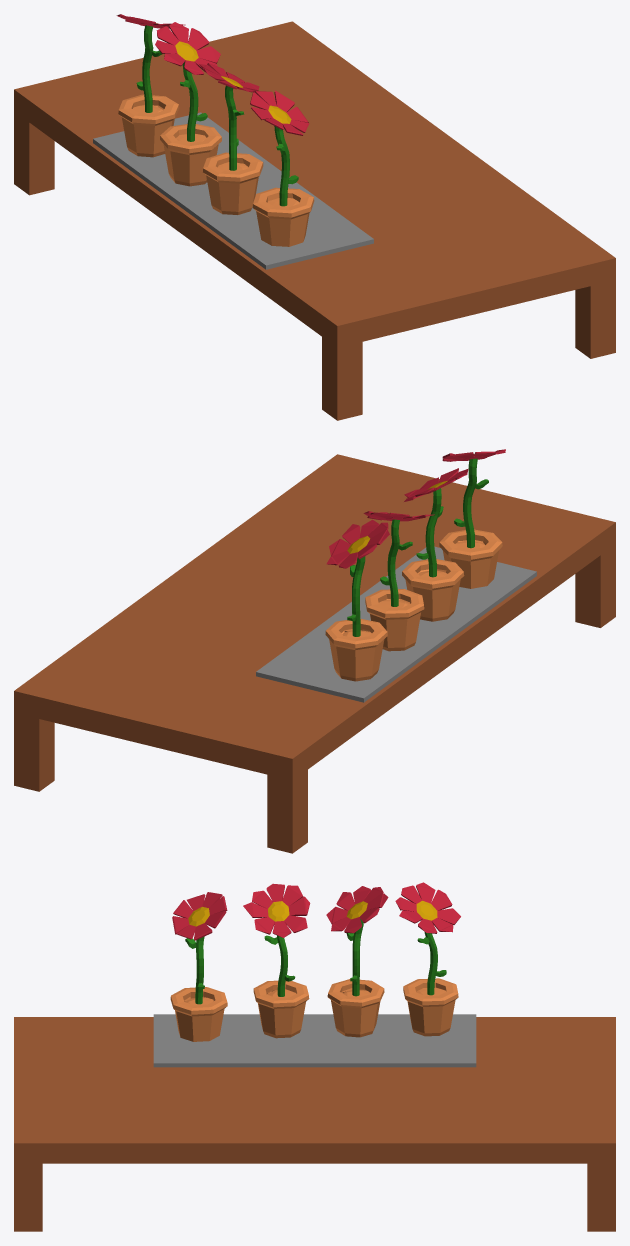
The model's file is biology-task-table-type2.fbx.
The picture shows the model from 3 angles, top to bottom: view 1: azimuth 30°, elevation 25°; view 2: azimuth 150°, elevation 25°; view 3: azimuth 270°, elevation 25°; orthographic projection. The views are drawn at different scales.
Parts seen in each view (by area): view 1: Plane, Plane.001, Circle.001, flower-red, Circle.002, Circle.003; view 2: Plane, Plane.001, Circle.003, Circle.002, flower-red, Circle.001; view 3: Plane, Plane.001, Circle.002, Circle.003, Circle.001, flower-red.
Boxes of the visible parts, x1=… form: Plane: x1=14, y1=21, x2=615, y2=420; Plane.001: x1=93, y1=112, x2=373, y2=269; Circle.001: x1=155, y1=22, x2=221, y2=186; flower-red: x1=250, y1=90, x2=314, y2=246; Circle.002: x1=198, y1=63, x2=263, y2=214; Circle.003: x1=116, y1=14, x2=185, y2=157; Plane: x1=14, y1=454, x2=615, y2=853; Plane.001: x1=256, y1=546, x2=536, y2=702; Circle.003: x1=325, y1=519, x2=389, y2=681; Circle.002: x1=402, y1=468, x2=468, y2=621; flower-red: x1=439, y1=449, x2=505, y2=588; Circle.001: x1=363, y1=511, x2=434, y2=651; Plane: x1=14, y1=1017, x2=615, y2=1231; Plane.001: x1=153, y1=1014, x2=476, y2=1067; Circle.002: x1=243, y1=883, x2=310, y2=1038; Circle.003: x1=395, y1=882, x2=460, y2=1036; Circle.001: x1=326, y1=886, x2=388, y2=1037; flower-red: x1=170, y1=892, x2=227, y2=1041.
Bounding box in the file's own units: 200 × 167 × 402.
